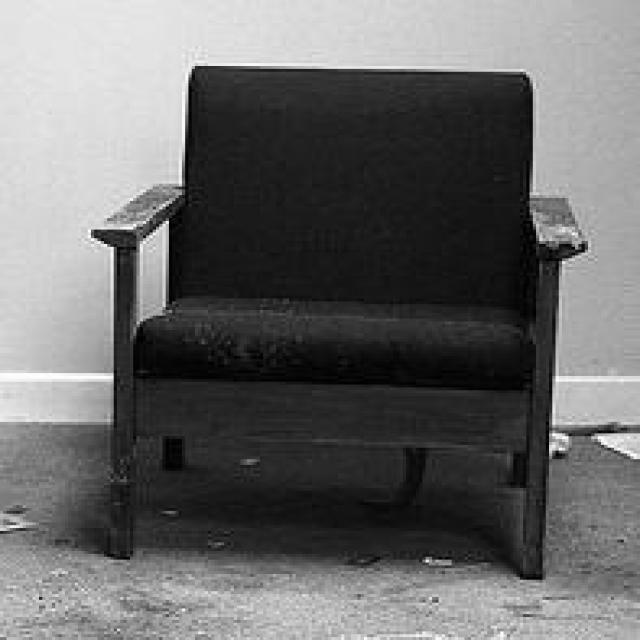chair: (90, 63, 592, 580)
